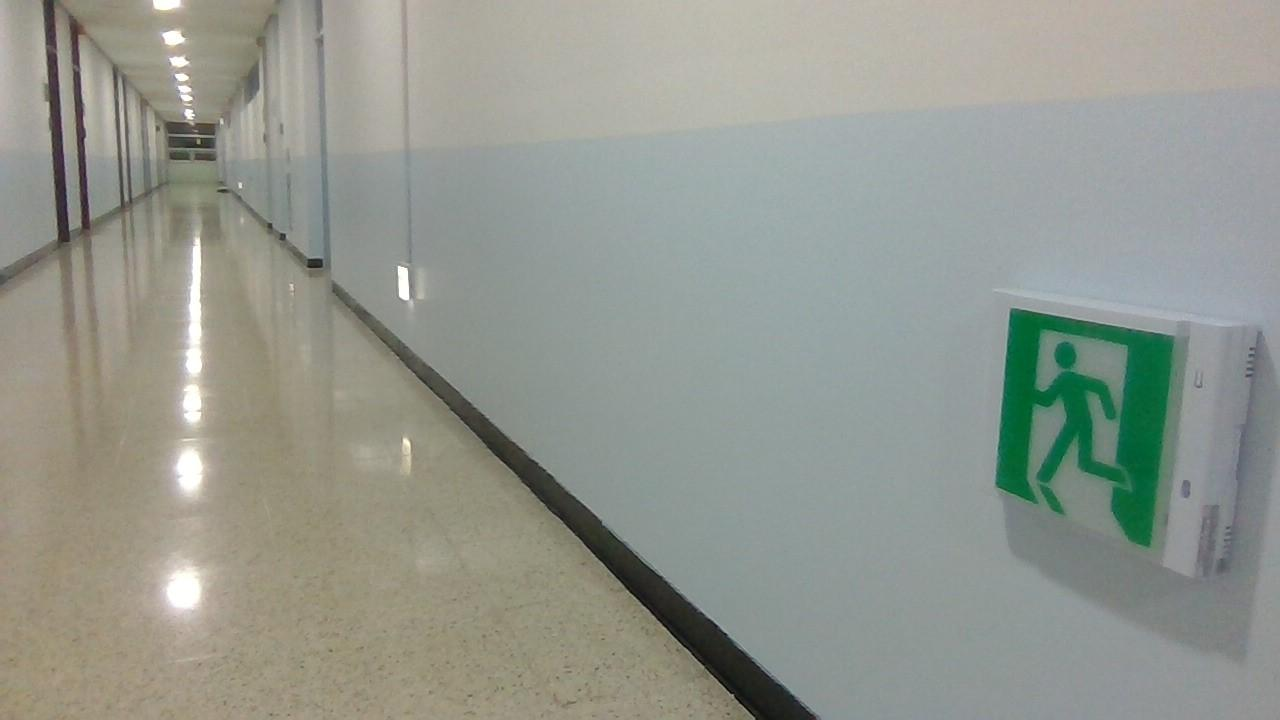emergency_exit: (992, 293, 1259, 580), (993, 304, 1188, 553)
